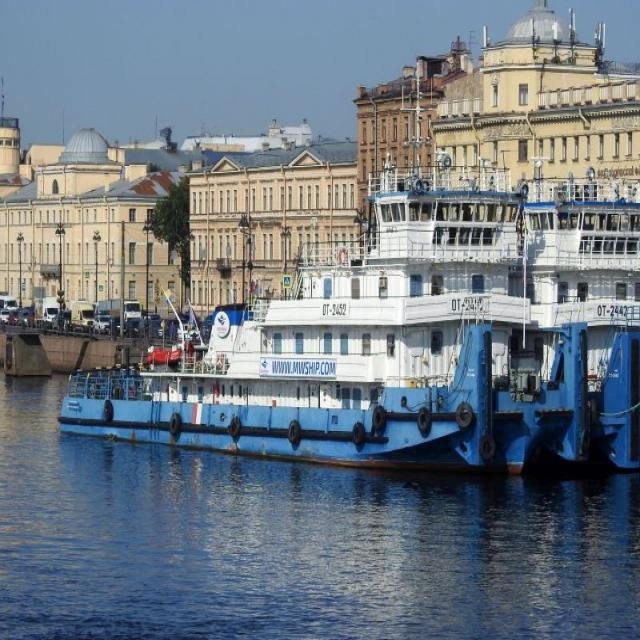tugboat: (57, 161, 592, 491)
